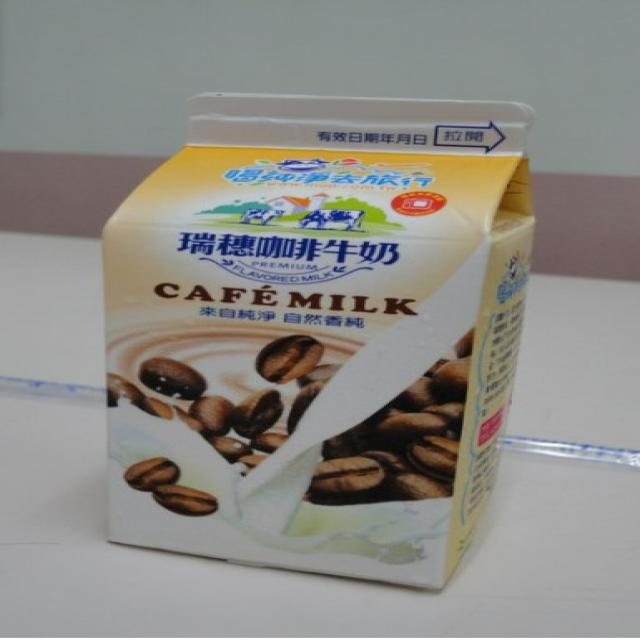non_white_jug: (73, 88, 574, 599)
